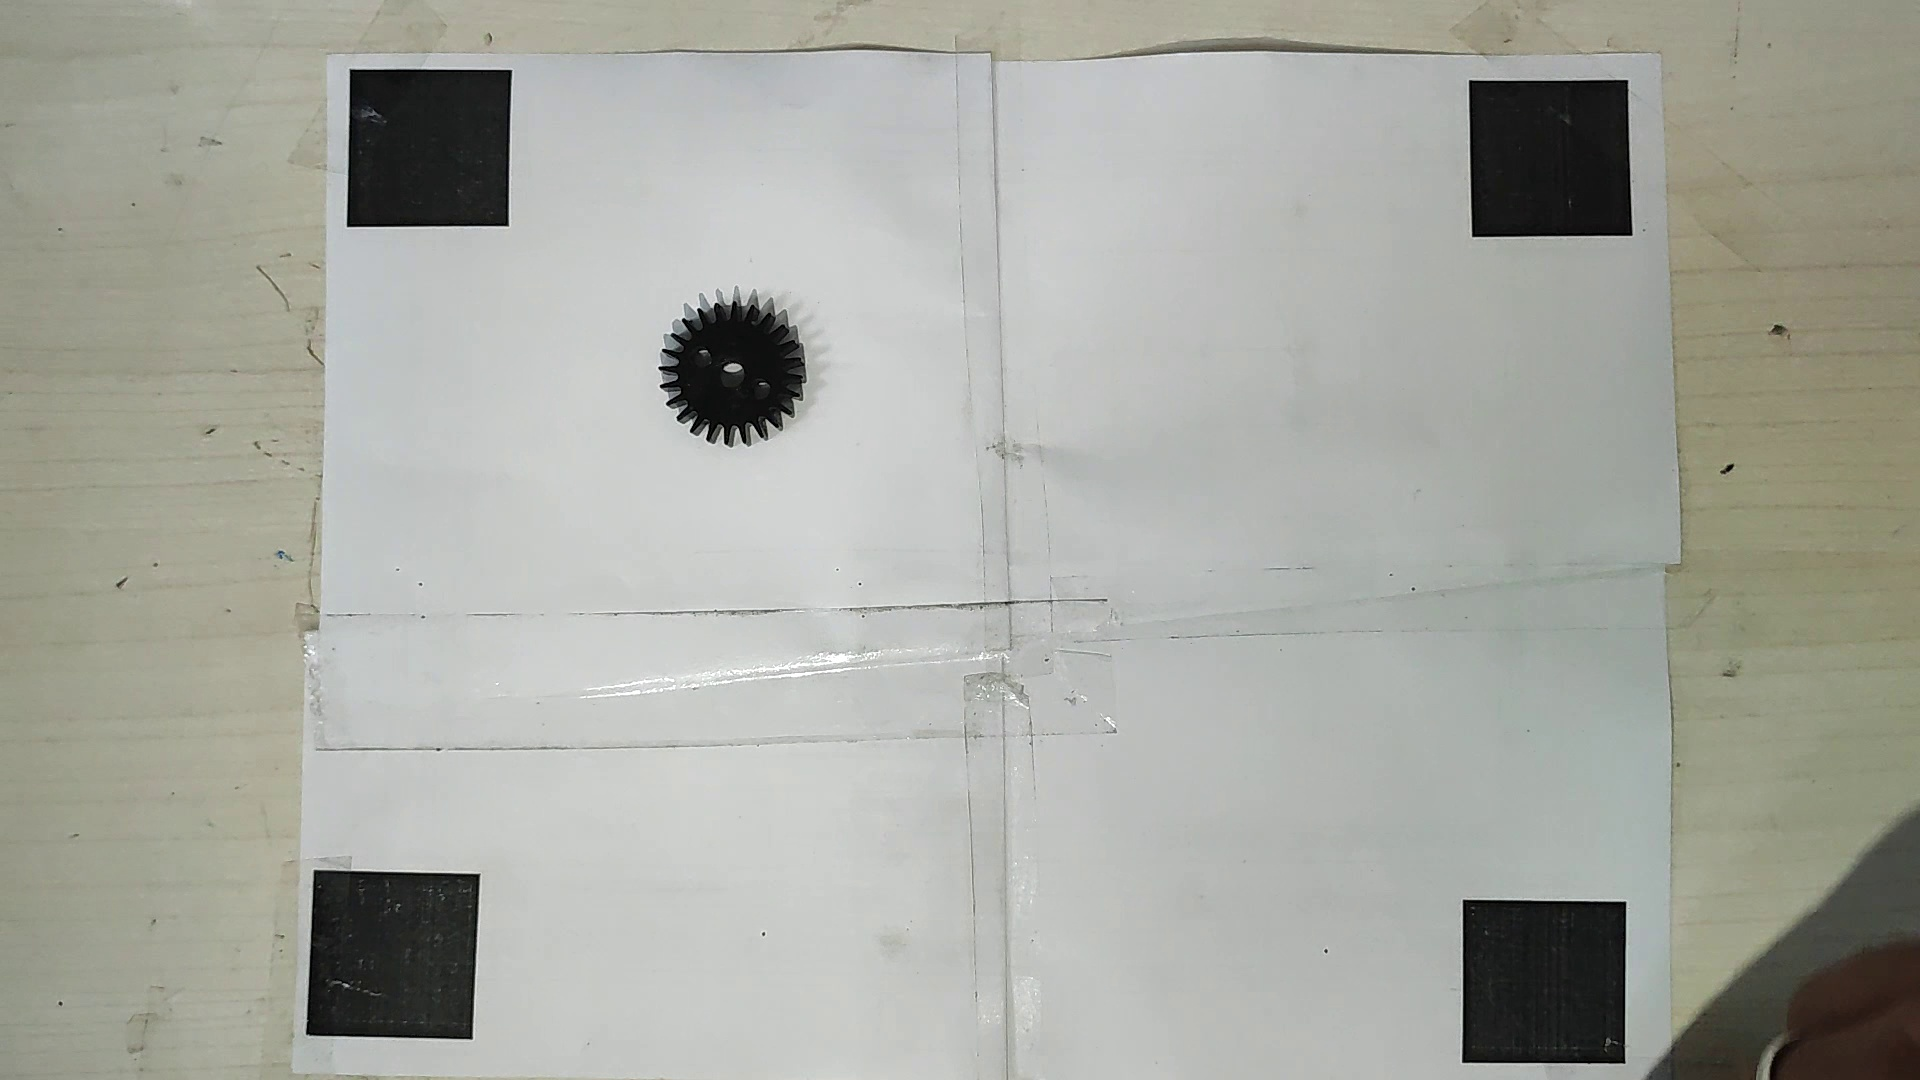Gear: (660, 296, 807, 447)
